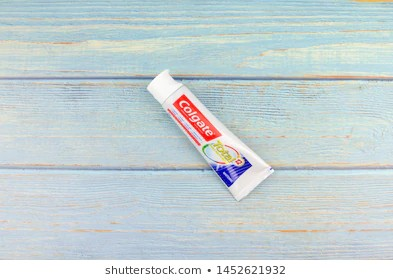colgate-total-150gm: (147, 67, 280, 206)
